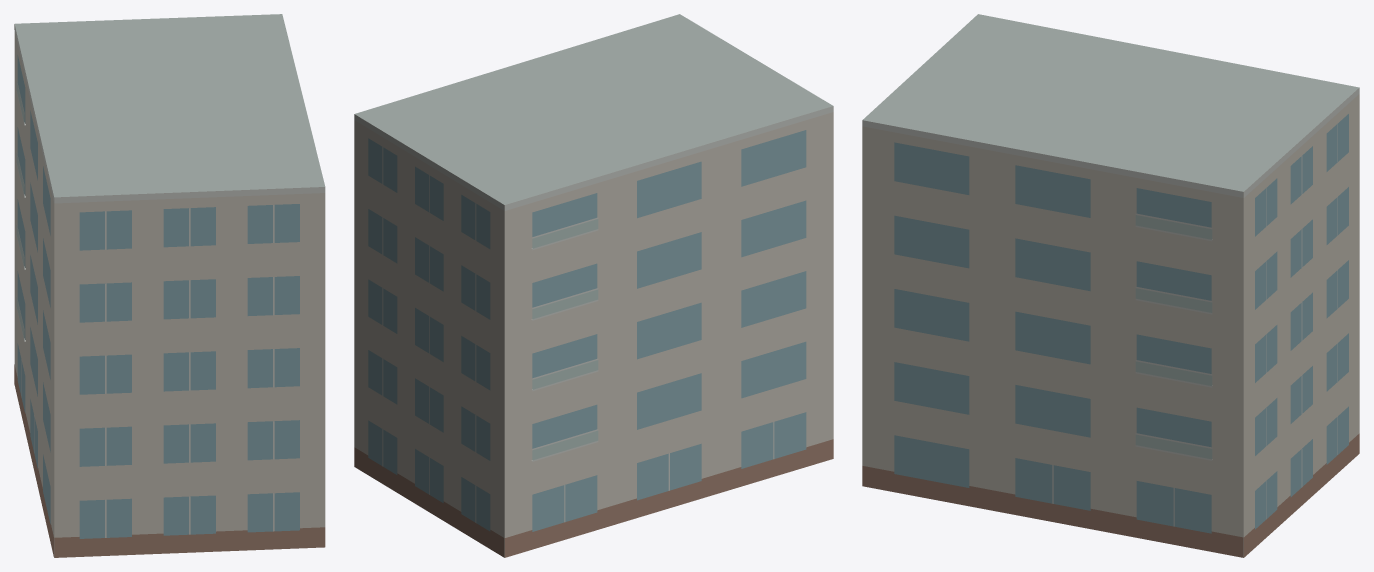
The model's file is survey-upis-32954010.glb.
3 views of the same model, side by side, from view 1: azimuth 30°, elevation 25°; view 2: azimuth 150°, elevation 25°; view 3: azimuth 270°, elevation 25° (orthographic). The views are drawn at different scales.
Visible parts, largest first — view 1: survey-upis-32954010.tmp; view 2: survey-upis-32954010.tmp; view 3: survey-upis-32954010.tmp.
Part boxes in pixels (left/top/right/bottom): survey-upis-32954010.tmp: left=14, top=14, right=325, bottom=557; survey-upis-32954010.tmp: left=354, top=14, right=833, bottom=557; survey-upis-32954010.tmp: left=862, top=14, right=1359, bottom=557.
Bounding box in the file's own units: 15.07 × 14.45 × 17.8.
